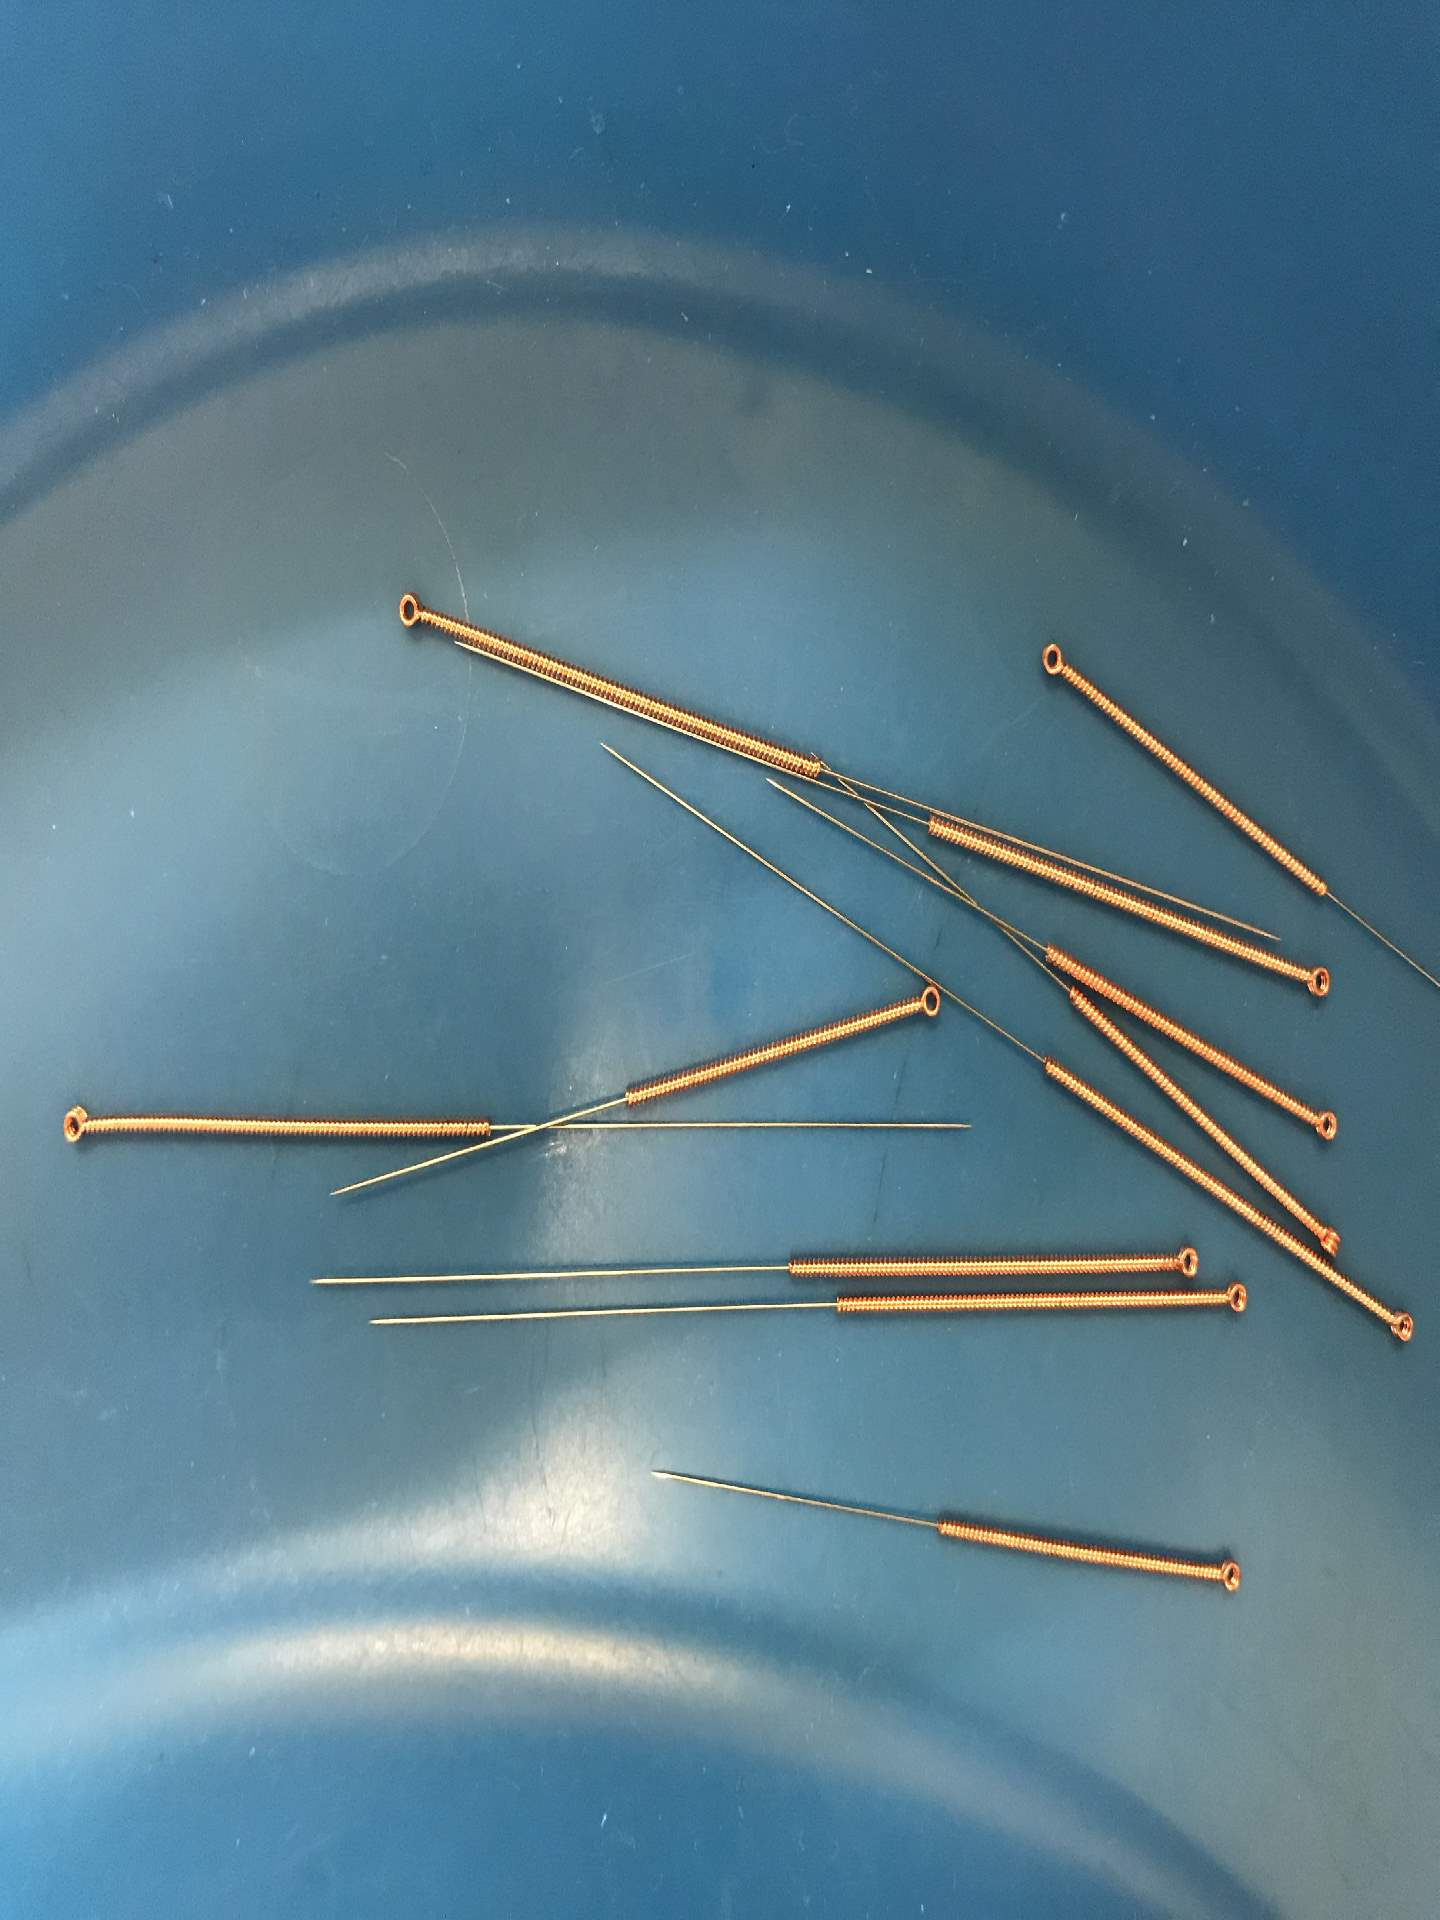needle: (44, 1093, 106, 1158), (1287, 949, 1342, 1011), (1203, 1539, 1252, 1604), (1029, 630, 1078, 689), (897, 977, 950, 1031), (381, 584, 433, 638), (1299, 1095, 1346, 1152), (1376, 1300, 1423, 1353), (1209, 1274, 1257, 1324), (1159, 1234, 1204, 1284), (1314, 1206, 1348, 1264)
